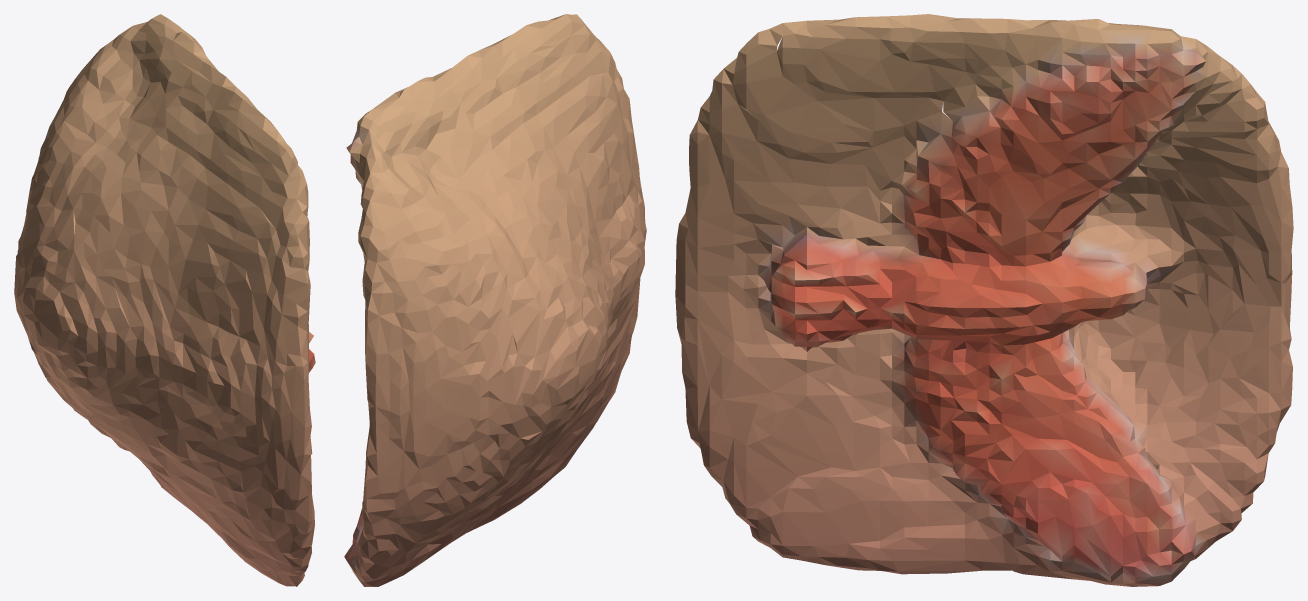
The model's file is kite_bird.glb.
3 views of the same model, side by side, from view 1: azimuth 30°, elevation 25°; view 2: azimuth 150°, elevation 25°; view 3: azimuth 270°, elevation 25° (orthographic). The views are drawn at different scales.
Parts seen in each view (by area): view 1: world; view 2: world; view 3: world.
Part boxes in pixels (x1,y1,x2,y2): world: (14, 14, 315, 586); world: (344, 14, 646, 586); world: (675, 14, 1293, 586).
Bounding box in the file's own units: 0.1653 × 0.4 × 0.398.
